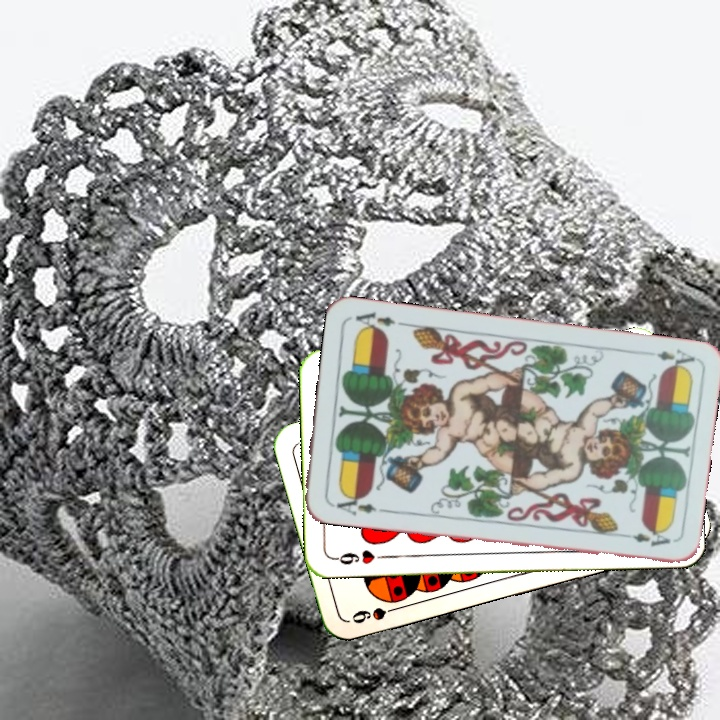EA: (327, 490, 386, 518), (652, 345, 697, 373)
H9: (329, 546, 388, 568)
S9: (348, 601, 405, 626)
